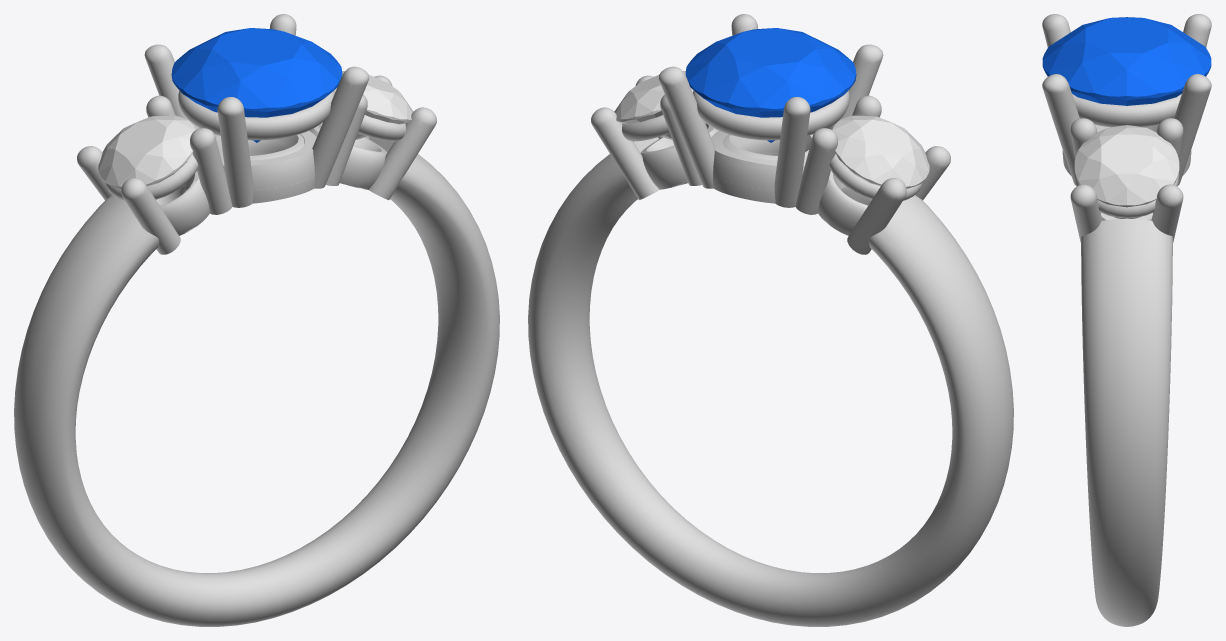
Rendered from bluesapphire-round-platinum-4prong-taperedband-2stone.glb.
3 renders of one model, left to right at view 1: azimuth 30°, elevation 25°; view 2: azimuth 150°, elevation 25°; view 3: azimuth 270°, elevation 25°, orthographic.
Visible parts, largest first — view 1: metal, stone, side.001, side; view 2: metal, stone, side.001, side; view 3: metal, stone, side.
Boxes of the visible parts, x1,y1,x2,y2 form: metal: (14,14,499,626); stone: (171,28,342,142); side.001: (98,115,195,188); side: (334,71,413,139); metal: (528,14,1013,626); stone: (685,28,856,142); side.001: (832,115,929,188); side: (614,71,693,139); metal: (1042,14,1211,626); stone: (1042,17,1211,105); side: (1074,125,1179,207).
Bounding box in the file's own units: 20.49 × 23.8 × 6.45.
